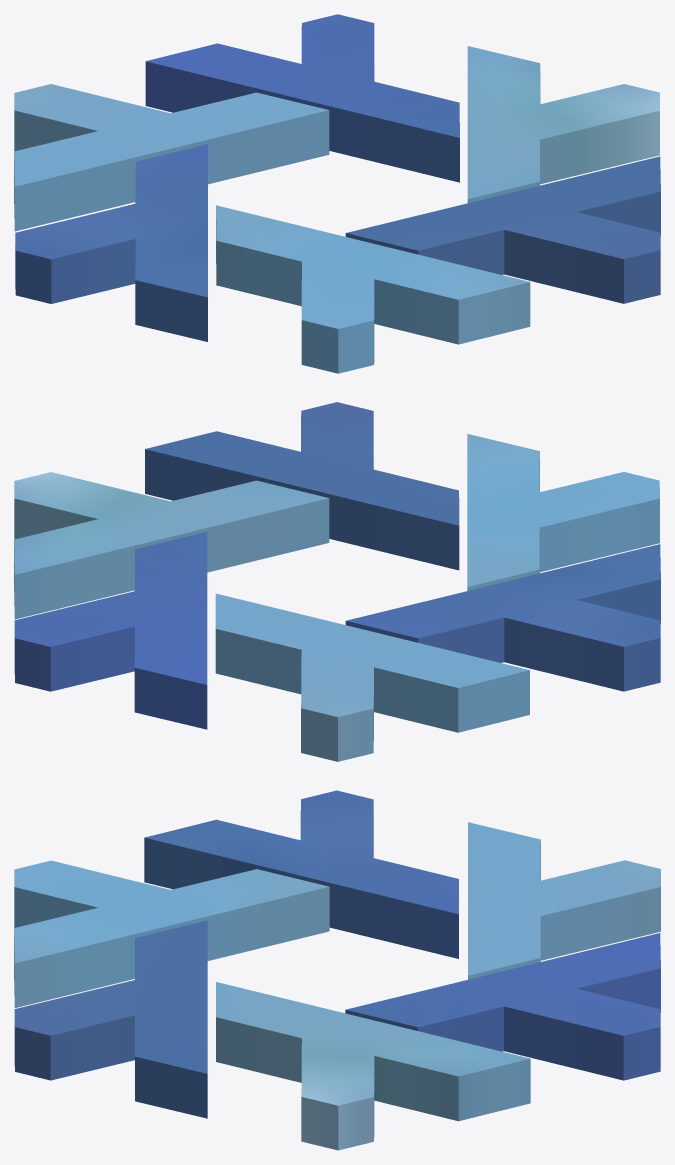
Rendered from Nix.gltf.
The picture shows the model from 3 angles, top to bottom: view 1: azimuth 30°, elevation 25°; view 2: azimuth 150°, elevation 25°; view 3: azimuth 270°, elevation 25°; orthographic projection.
Parts seen in each view (by area): view 1: nixos; view 2: nixos; view 3: nixos.
Boxes of the visible parts, x1,y1,x2,y2 form: nixos: [14, 14, 660, 373]; nixos: [14, 402, 660, 761]; nixos: [14, 790, 660, 1150].
Bounding box in the file's own units: 0.151 × 0.01 × 0.131.
Materials: 1 (1 with a texture image).
